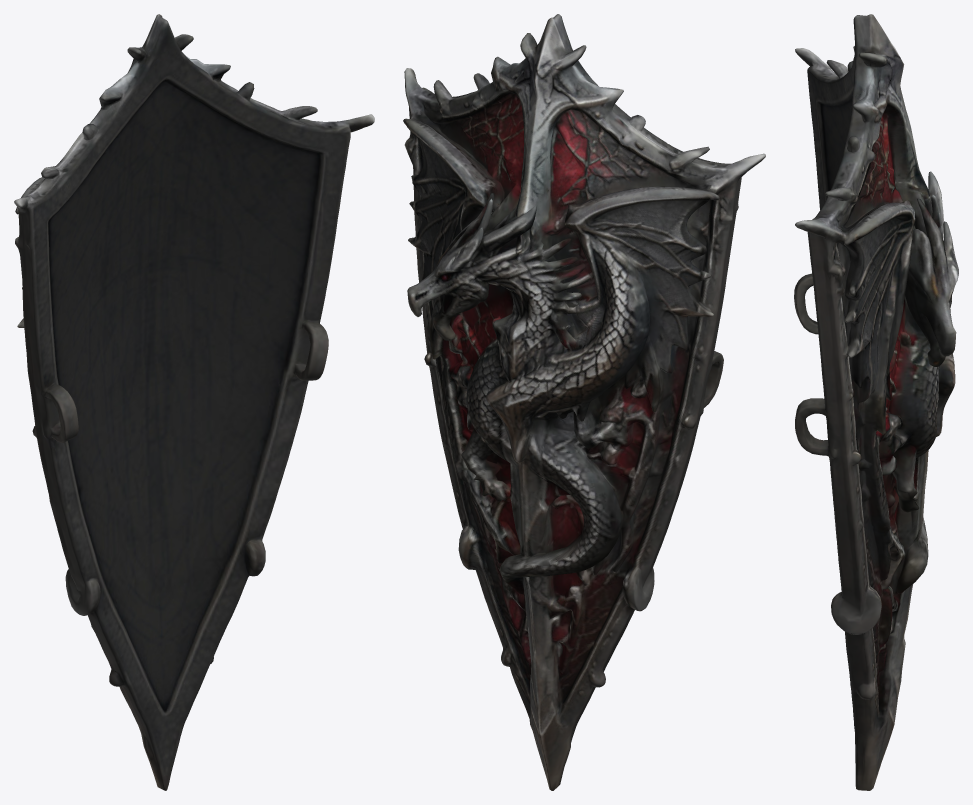
Rendered from kite_blackwyrm.glb.
3 renders of one model, left to right at view 1: azimuth 30°, elevation 25°; view 2: azimuth 150°, elevation 25°; view 3: azimuth 270°, elevation 25°, orthographic.
Parts seen in each view (by area): view 1: kite_blackwyrm; view 2: kite_blackwyrm; view 3: kite_blackwyrm.
Boxes of the visible parts, <box> form: kite_blackwyrm: <box>14,14,374,790</box>; kite_blackwyrm: <box>403,14,765,790</box>; kite_blackwyrm: <box>794,14,958,790</box>.
Size of the model in its own units: 0.3997 by 0.8256 by 0.1589.
Materials: 1 (1 with a texture image).
